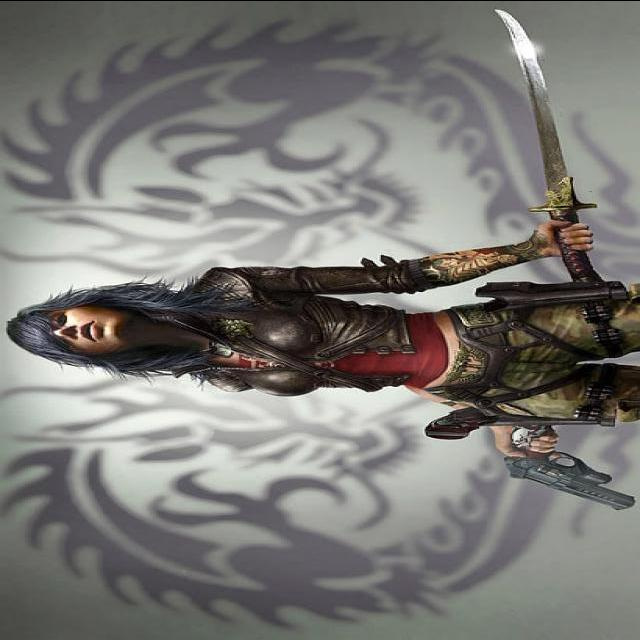pistol: (498, 423, 636, 510)
sword: (493, 9, 607, 284)
